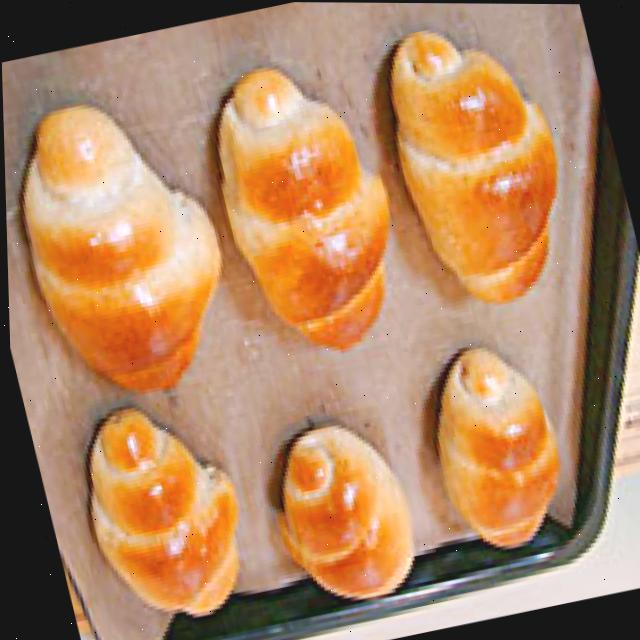面包点心: (2, 95, 262, 424), (203, 64, 437, 393), (388, 16, 583, 317), (57, 378, 279, 640), (251, 406, 464, 640), (417, 341, 605, 575)
